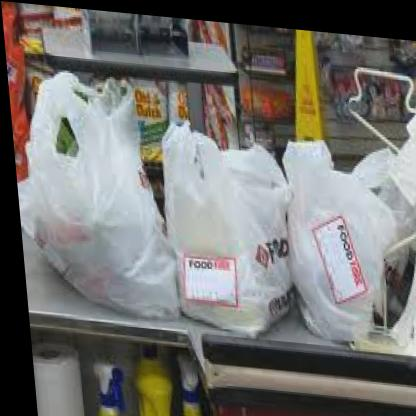Plastic: (8, 56, 159, 320), (150, 86, 287, 334), (277, 113, 386, 334)
